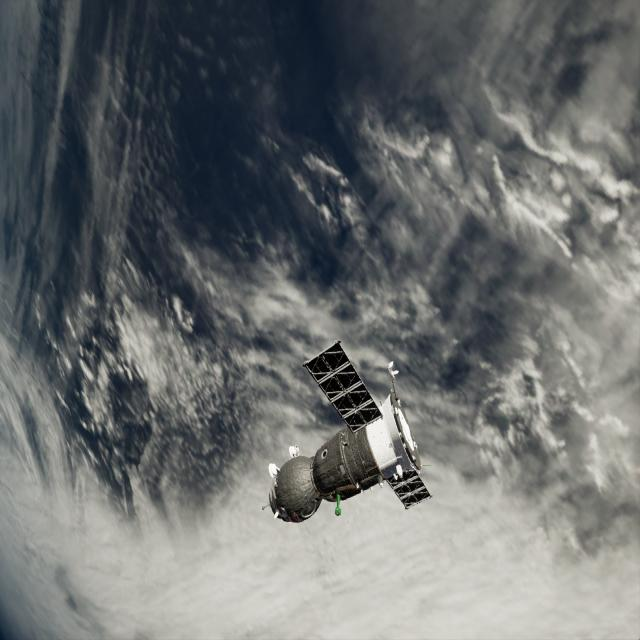Satellites revolving around earth: (261, 334, 435, 526)
